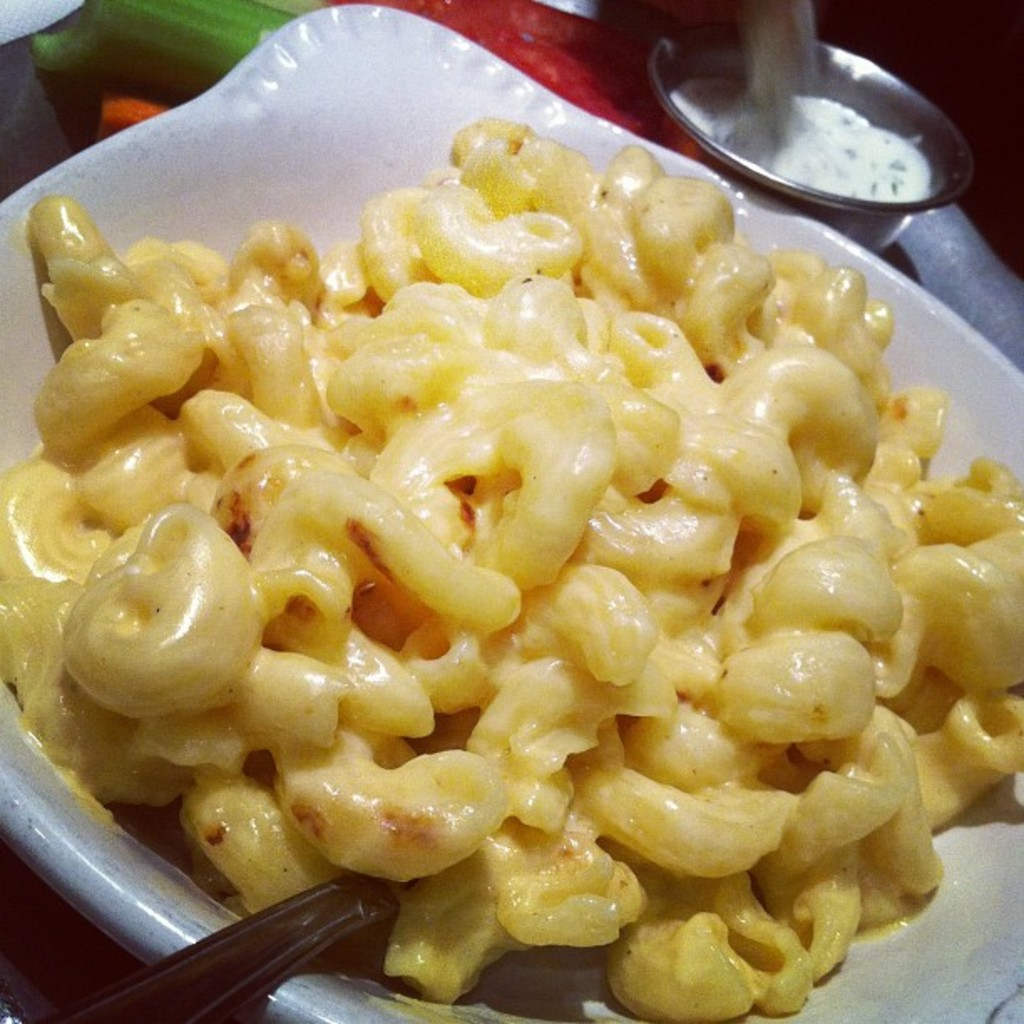pasta: (0, 59, 1024, 984)
